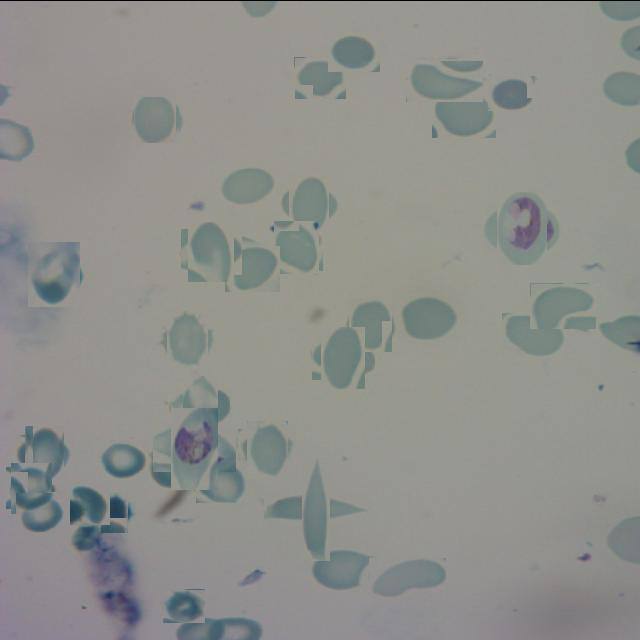leukocyte: (283, 475, 349, 541), (24, 244, 83, 303), (406, 59, 483, 101), (369, 558, 446, 600), (432, 88, 496, 137), (530, 282, 596, 328), (502, 312, 567, 357), (317, 330, 370, 384), (184, 225, 238, 278), (310, 547, 375, 591), (398, 293, 458, 339), (225, 245, 280, 291), (162, 314, 212, 364), (284, 180, 334, 230), (242, 424, 292, 474), (272, 222, 322, 272), (20, 430, 69, 480), (346, 299, 395, 348), (218, 164, 276, 205), (177, 381, 224, 429), (294, 56, 346, 98), (8, 464, 54, 510), (96, 438, 148, 478), (196, 462, 248, 502), (15, 491, 66, 531), (328, 32, 380, 71), (133, 97, 178, 141), (487, 74, 535, 110), (70, 484, 110, 524), (162, 588, 205, 622), (98, 494, 132, 529)
schizont: (162, 415, 227, 480), (491, 196, 553, 258)
